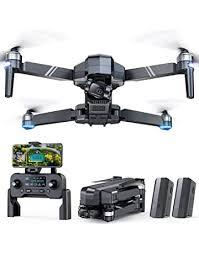drone: (0, 34, 199, 134)
